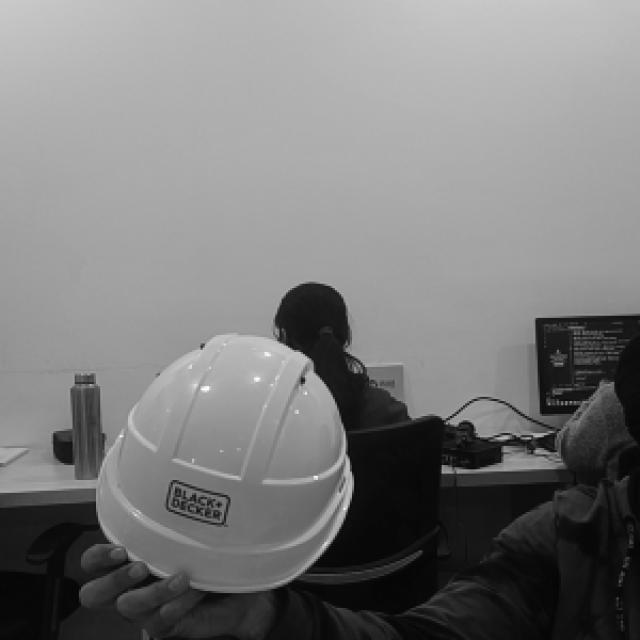safety_helmet: (94, 333, 354, 595)
